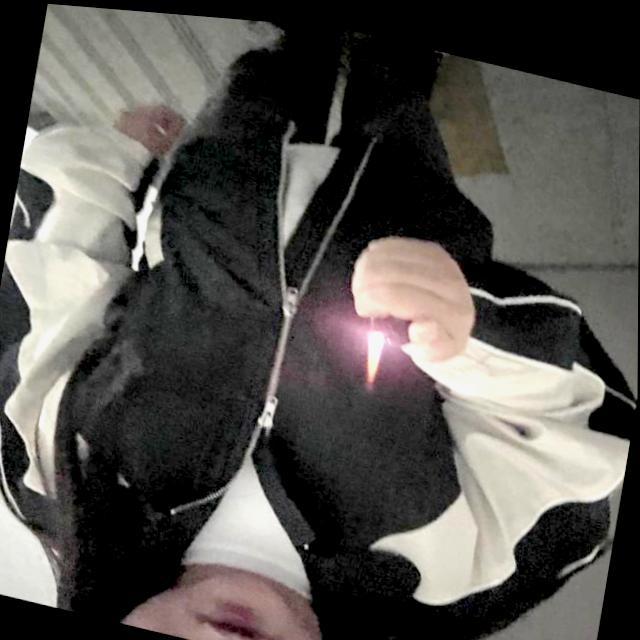helmet: (359, 323, 386, 385)
